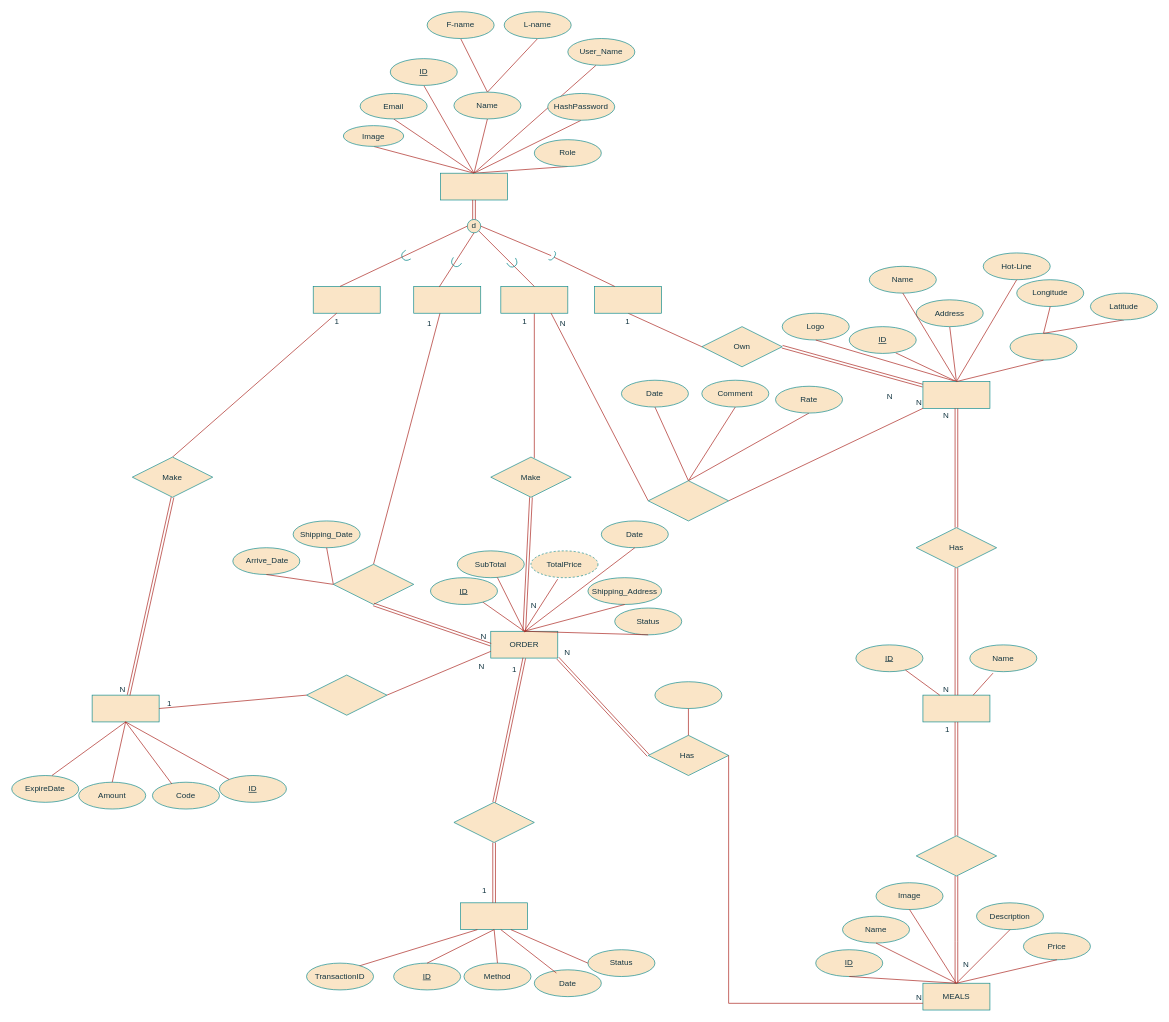
Some shapes in this 1169 by 1022 pixel diagram are drawn without their labels. The box of each missing label's shape, as (x1, y1, x2, y2) in pixels:
Admin: (313, 286, 380, 313)
CATEGORIES: (922, 694, 990, 722)
Contain: (916, 835, 997, 876)
COUPONS: (91, 694, 159, 722)
Customer: (500, 286, 568, 313)
Deliver: (333, 564, 414, 604)
Delivery: (413, 286, 481, 313)
Location: (1009, 333, 1077, 360)
Make_Review: (648, 480, 729, 521)
Owner: (594, 286, 662, 313)
Pay: (453, 802, 534, 843)
Payment: (460, 902, 528, 930)
Quantity: (654, 681, 722, 709)
RESTAURANT: (922, 381, 990, 408)
Use: (306, 674, 387, 715)
USER: (440, 173, 508, 200)
